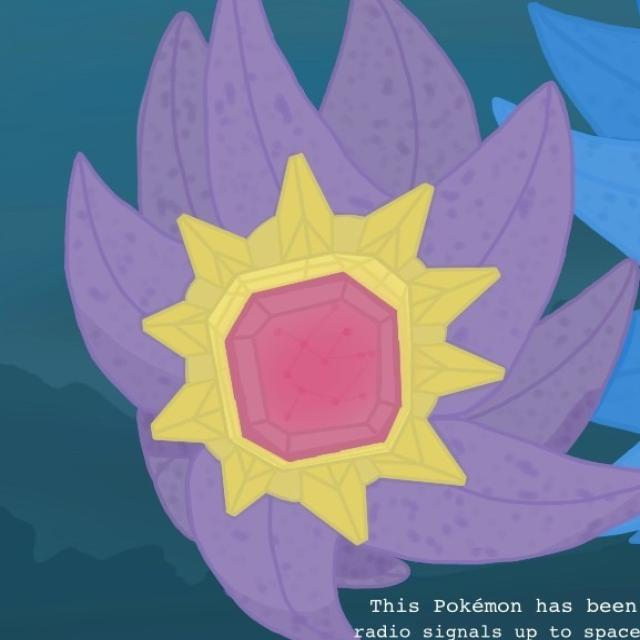Starmie: (60, 70, 589, 562)
